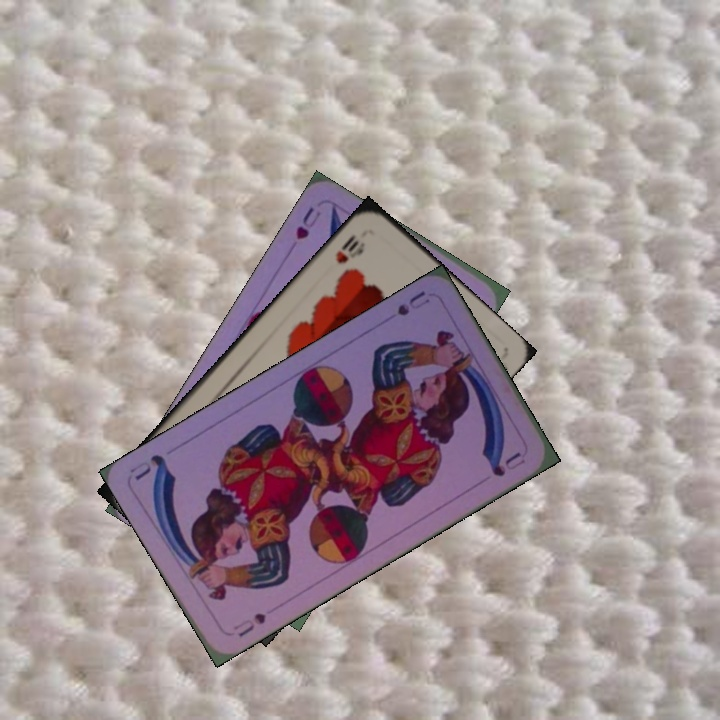H10: (331, 230, 368, 267)
HU: (291, 203, 324, 242)
SU: (392, 286, 433, 319), (234, 608, 269, 639)
